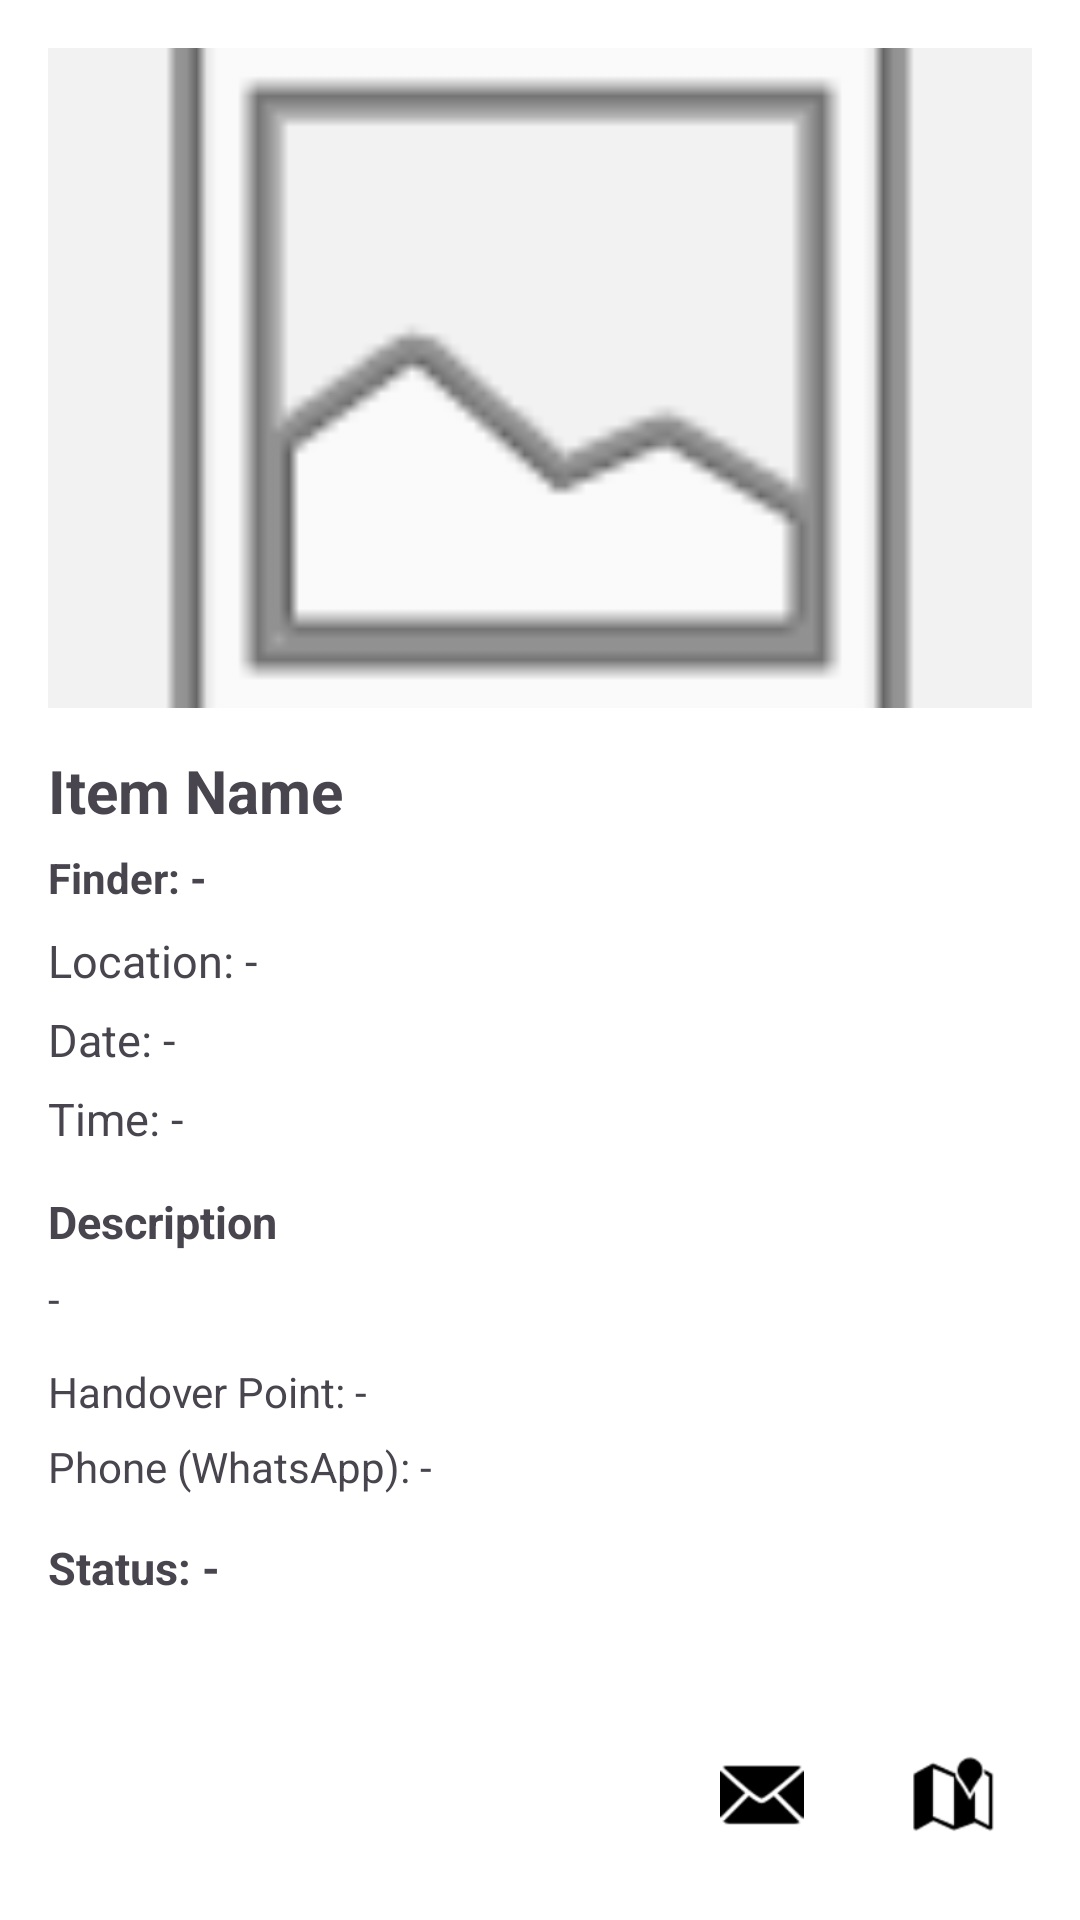

Screen size 1080px×1920px. Icon name, then its box in pixels as (x1, y1, x2, y2):
Message: (720, 1765, 804, 1825)
Open Map: (913, 1757, 994, 1831)
